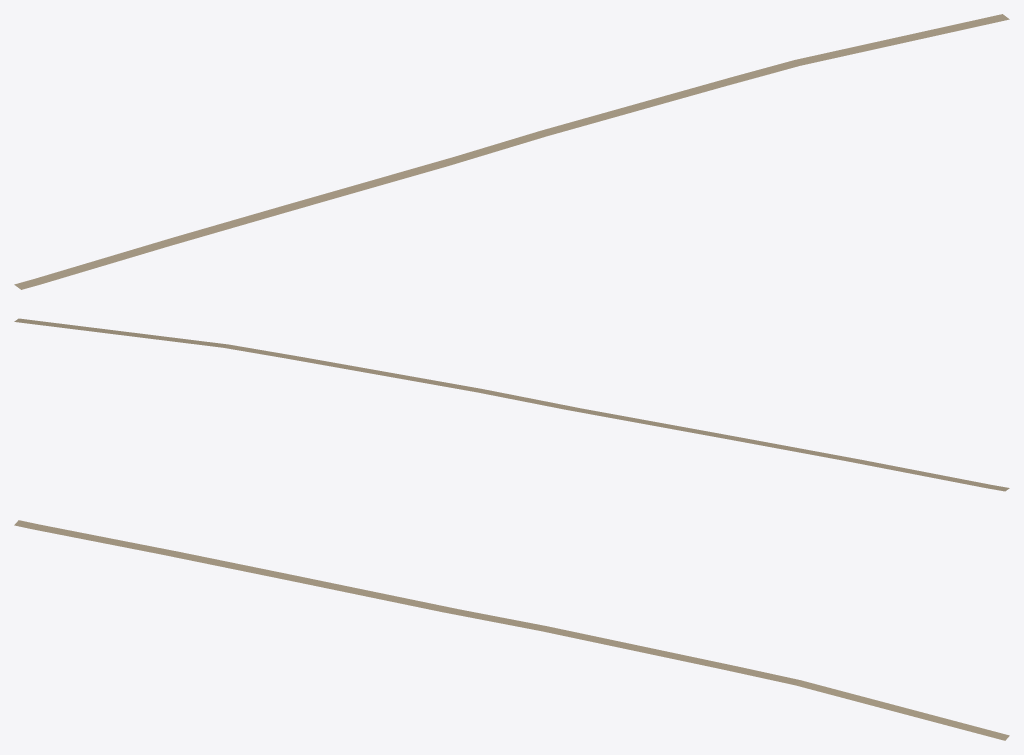
File: farm_-25_-21_track.glb
3 renders of one model, top to bottom at view 1: azimuth 30°, elevation 25°; view 2: azimuth 150°, elevation 25°; view 3: azimuth 330°, elevation 25°, orthographic. The views are drawn at different scales.
Parts seen in each view (by area): view 1: geometry_0; view 2: geometry_0; view 3: geometry_0.
Boxes of the visible parts, left/top/right/bottom form: geometry_0: left=14, top=14, right=1009, bottom=289; geometry_0: left=14, top=318, right=1009, bottom=491; geometry_0: left=14, top=520, right=1009, bottom=740.
Bounding box in the file's own units: 312 × 7.57 × 32.29.
